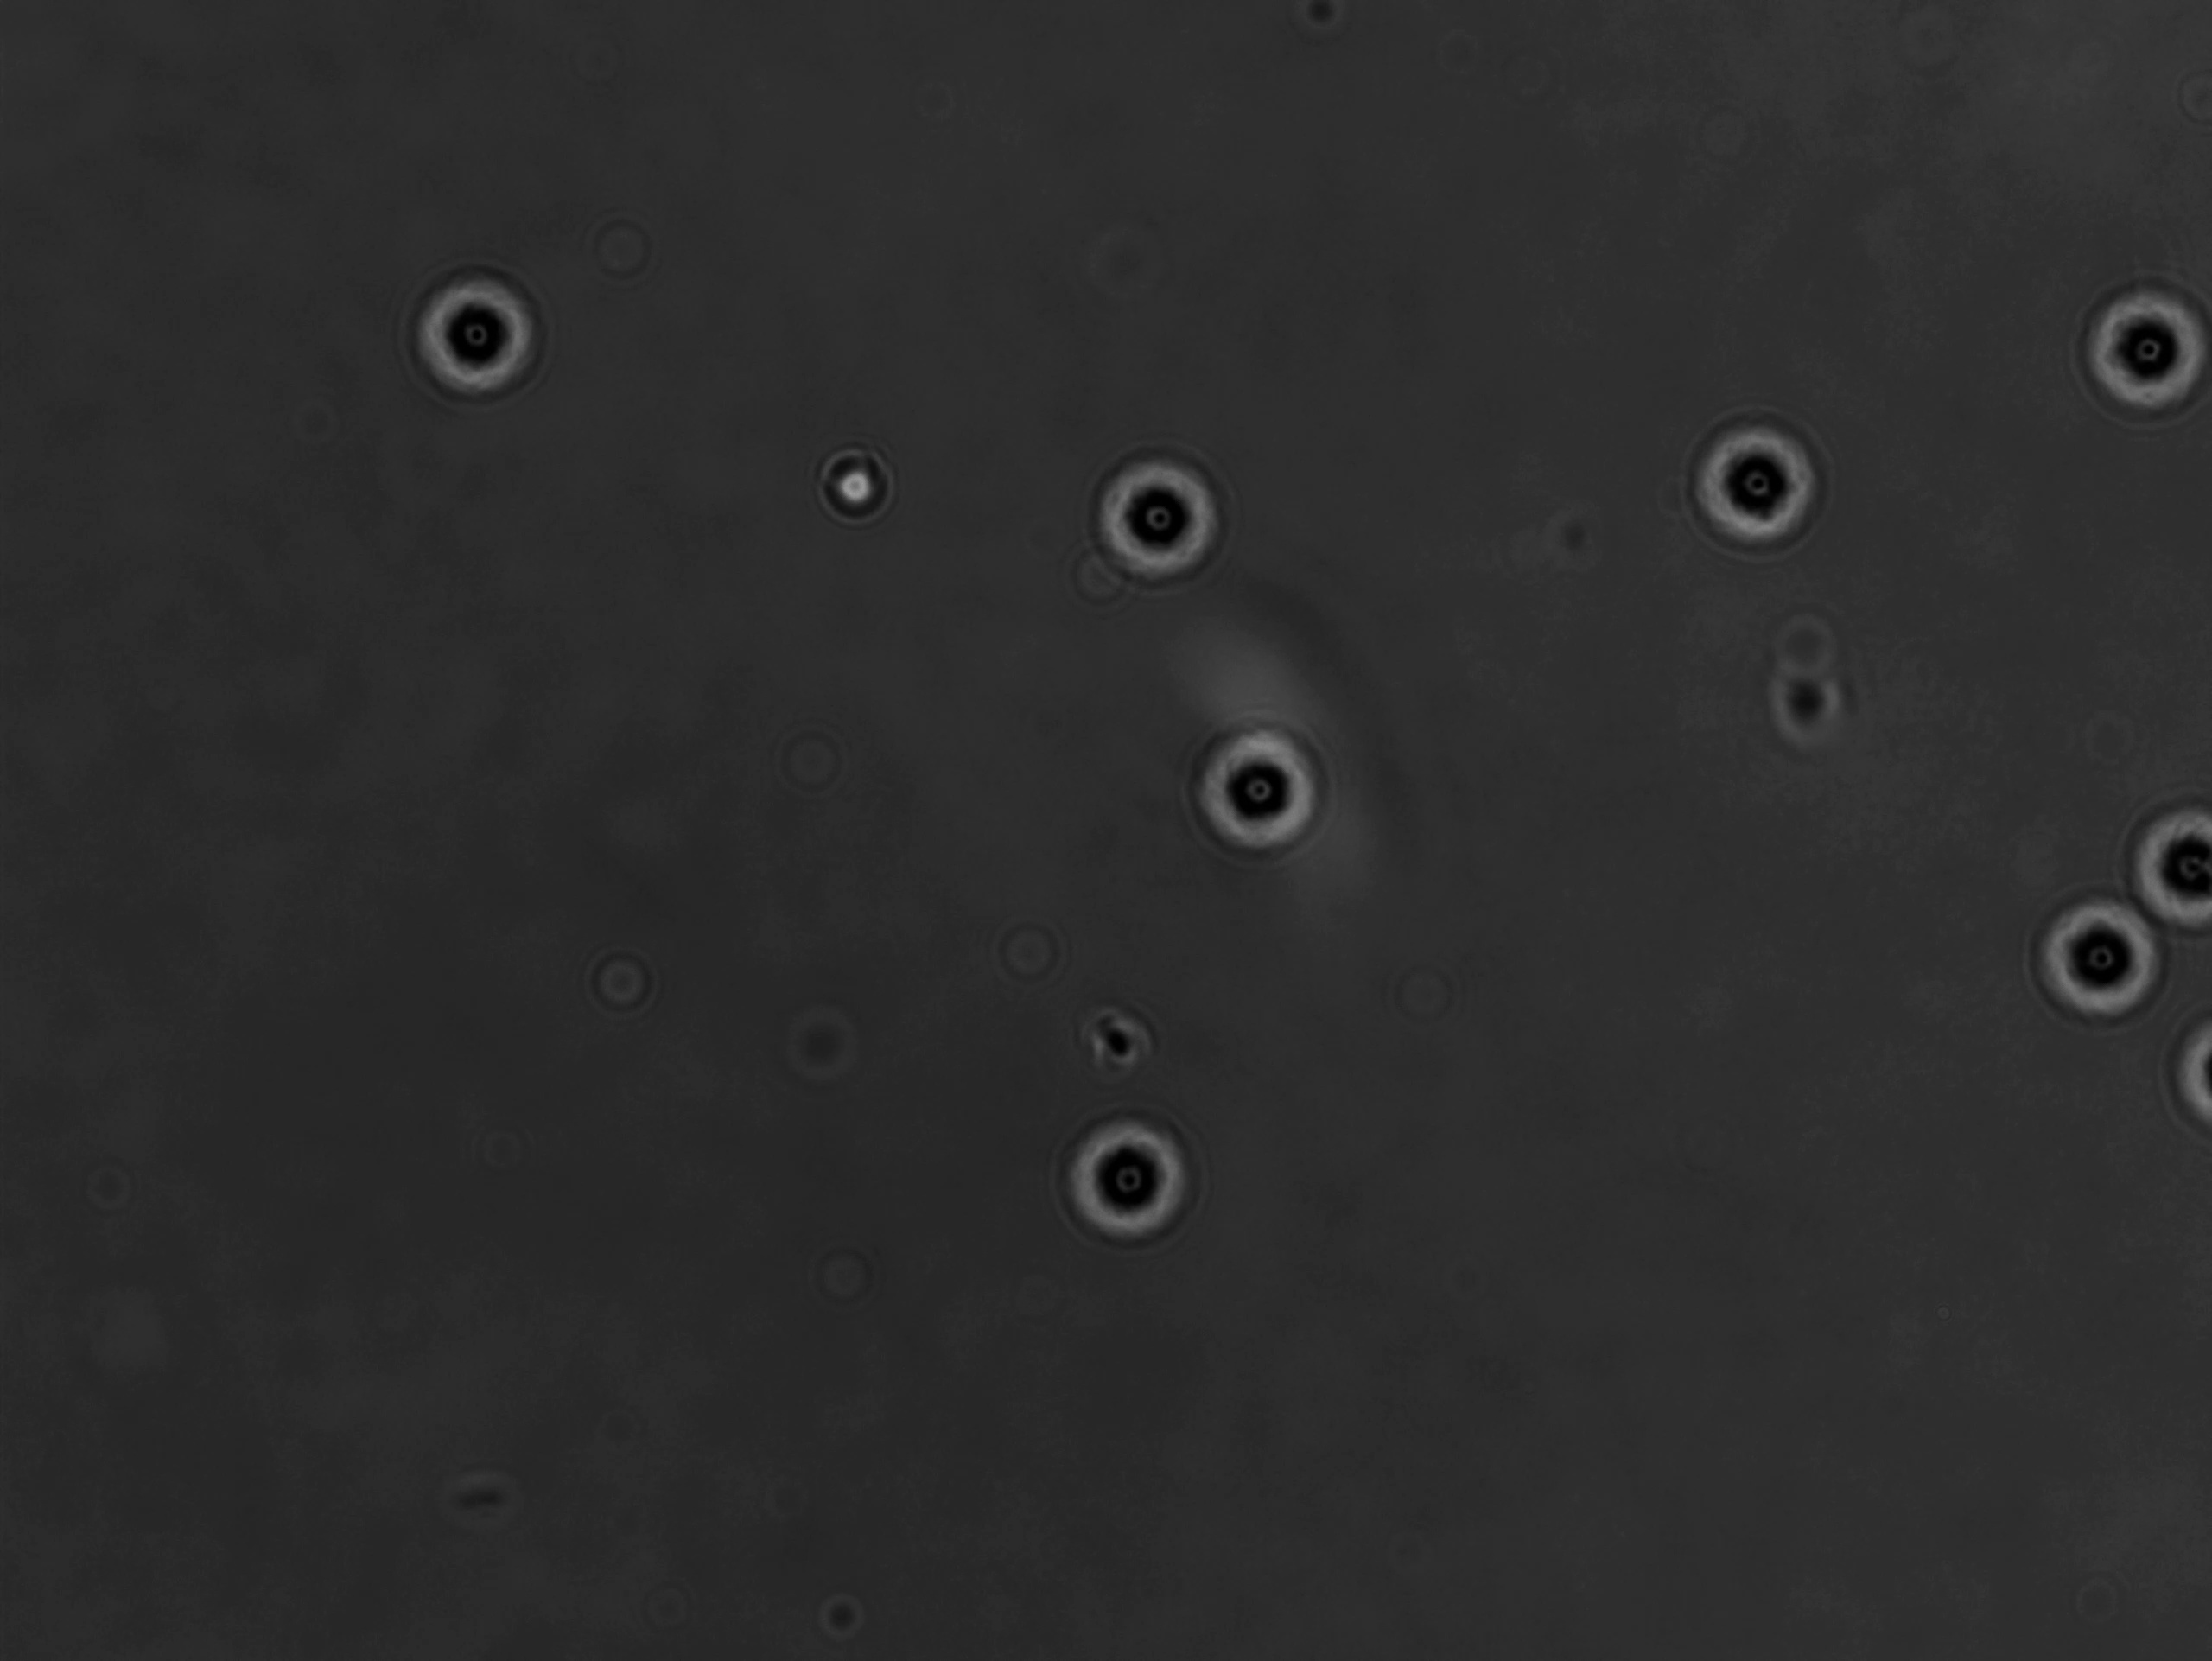depth:-20: (2017, 867, 2196, 1043), (1047, 1108, 1214, 1265), (1671, 400, 1830, 564), (1179, 710, 1345, 865), (1085, 440, 1230, 595), (405, 255, 553, 403), (2079, 276, 2212, 433)
